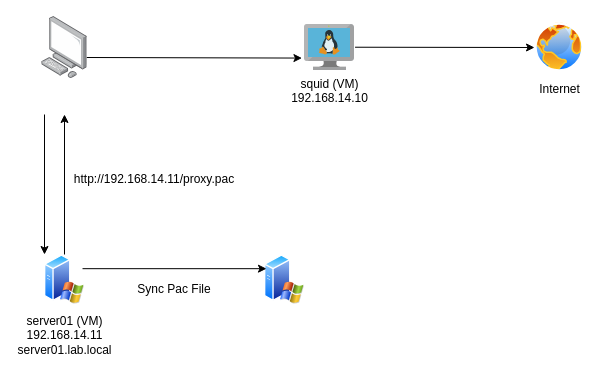
Image size: 601x375. Some labels were removed from this diagram. Here are the shapes that lost their labels. From the top down, the box of each, then its label:
(41, 16, 87, 78): Workstation 192.168.14.1
(264, 254, 304, 304): server02 (VM) 192.168.14.12
